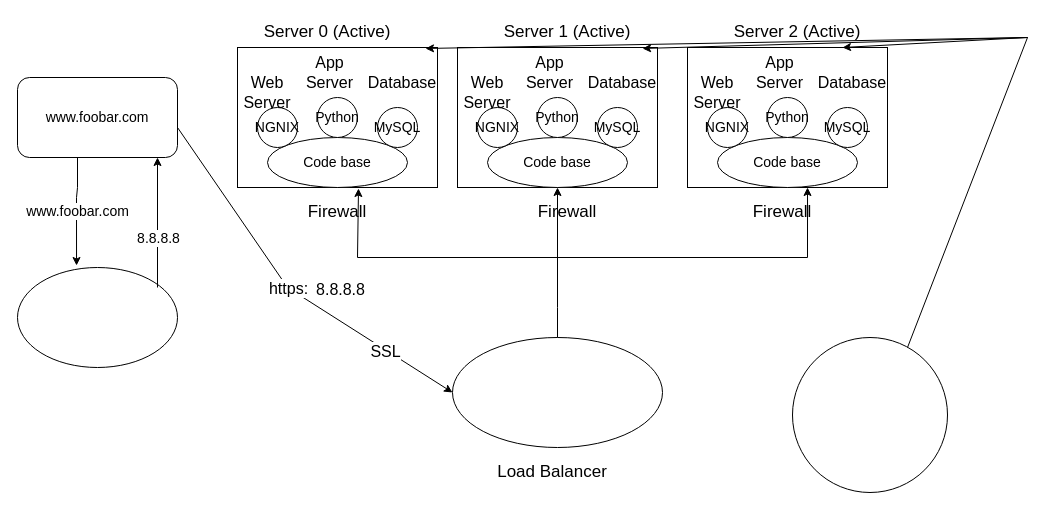
Image size: 1053x510. Some labels were removed from this diagram. The centre of each missing label's shape, as x and y in pixels:
"DNS" goes at point (97, 317).
"HAPROXY Queue: 0--->1--->2--->0" goes at point (557, 392).
"Sumologic" goes at point (870, 414).
